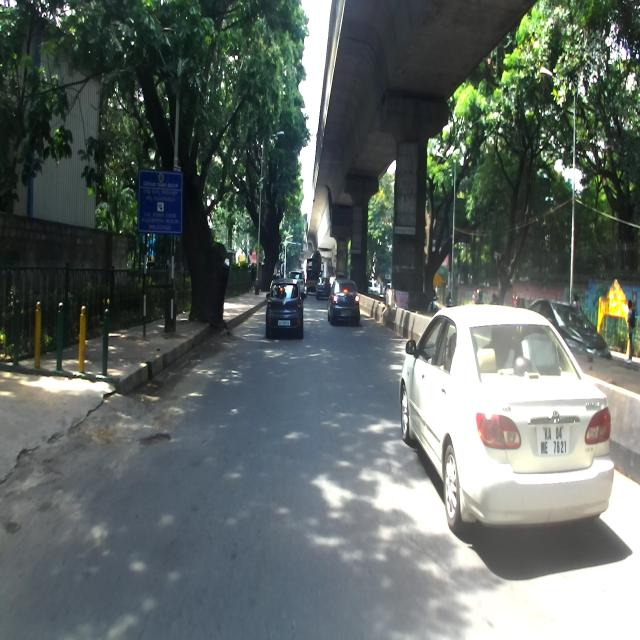barrier ahead at: (53, 297, 69, 376), (99, 293, 113, 374), (76, 297, 88, 372)
car ahead at: (398, 305, 614, 539), (262, 275, 308, 336)
sign board ahead at: (138, 162, 183, 258)
